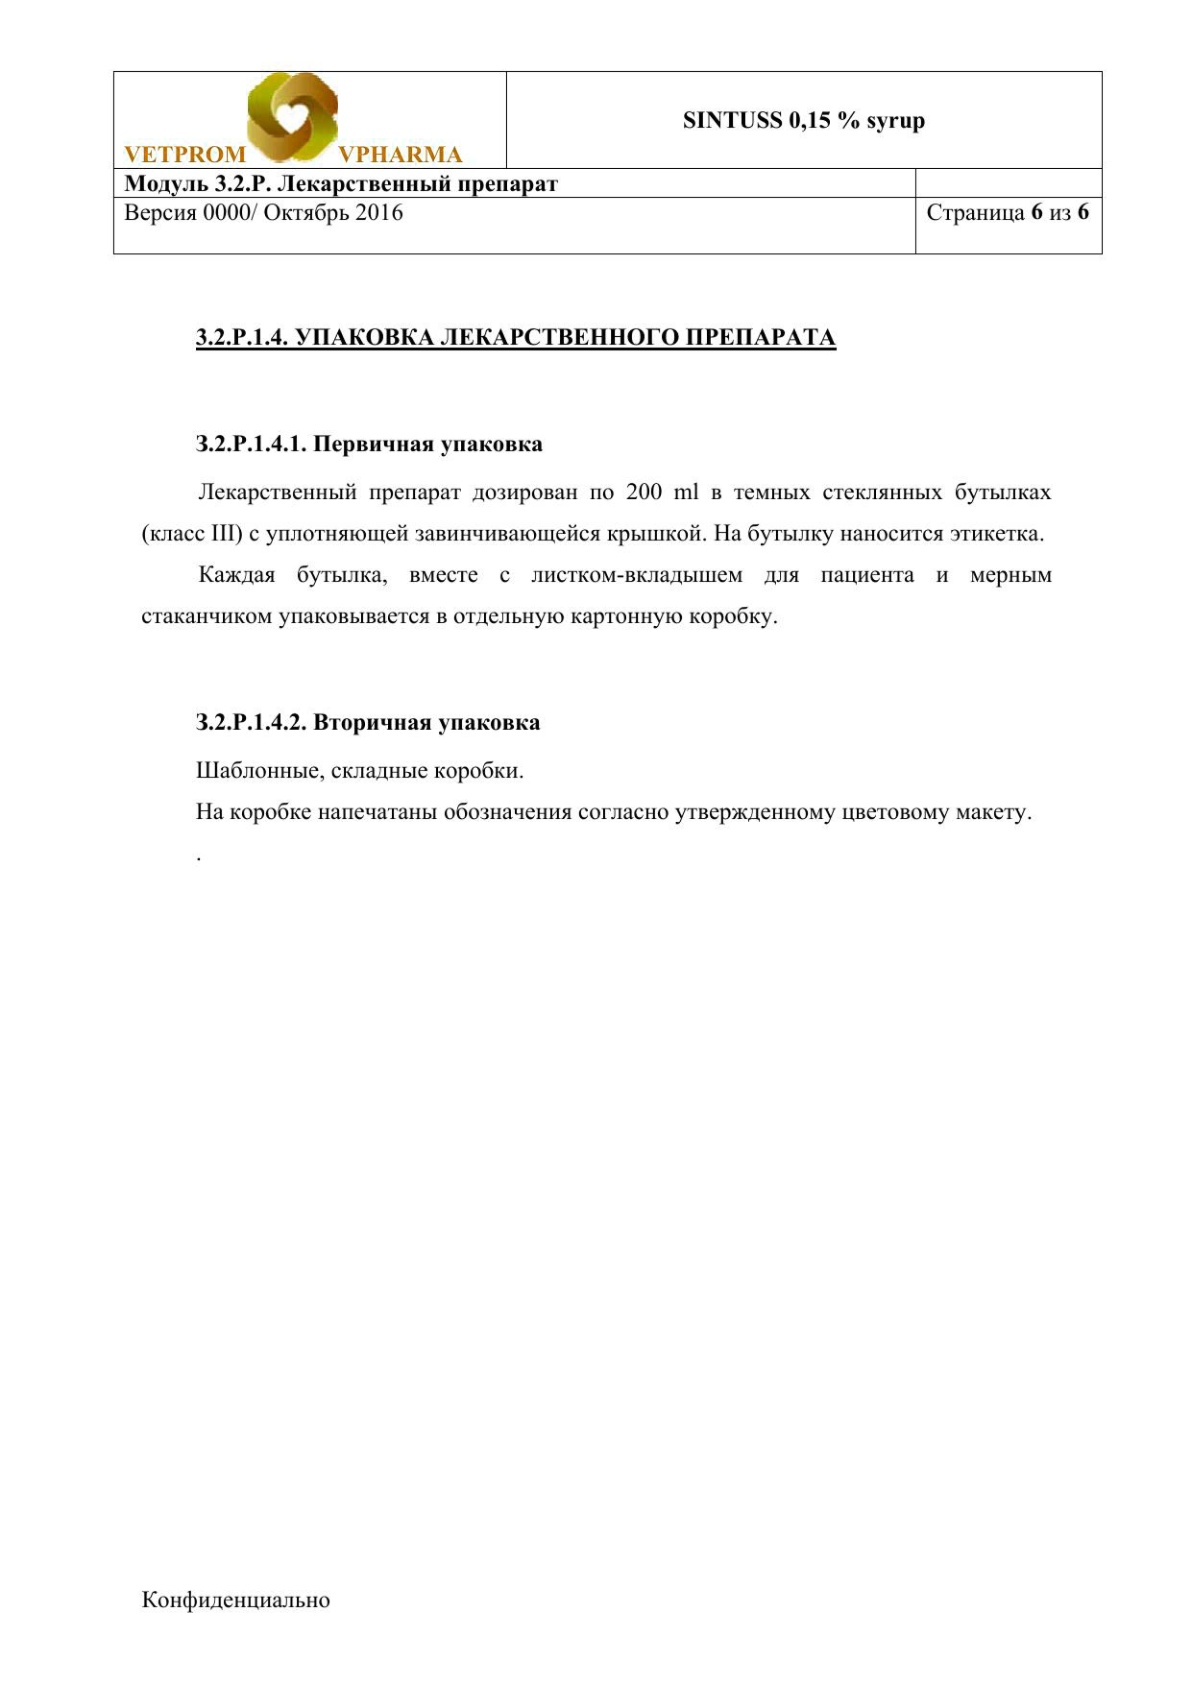merged_cells: (111, 68, 1104, 255)
